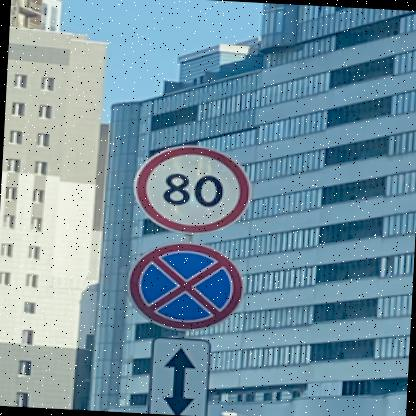speedlimit: (127, 143, 249, 236)
